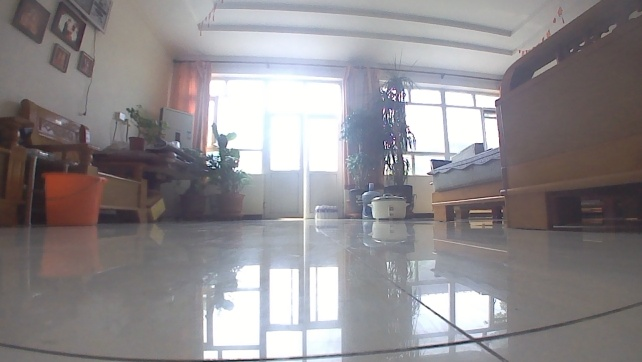sofa1: (425, 141, 504, 224)
wire: (81, 26, 98, 117), (109, 119, 119, 144), (123, 117, 131, 142)
